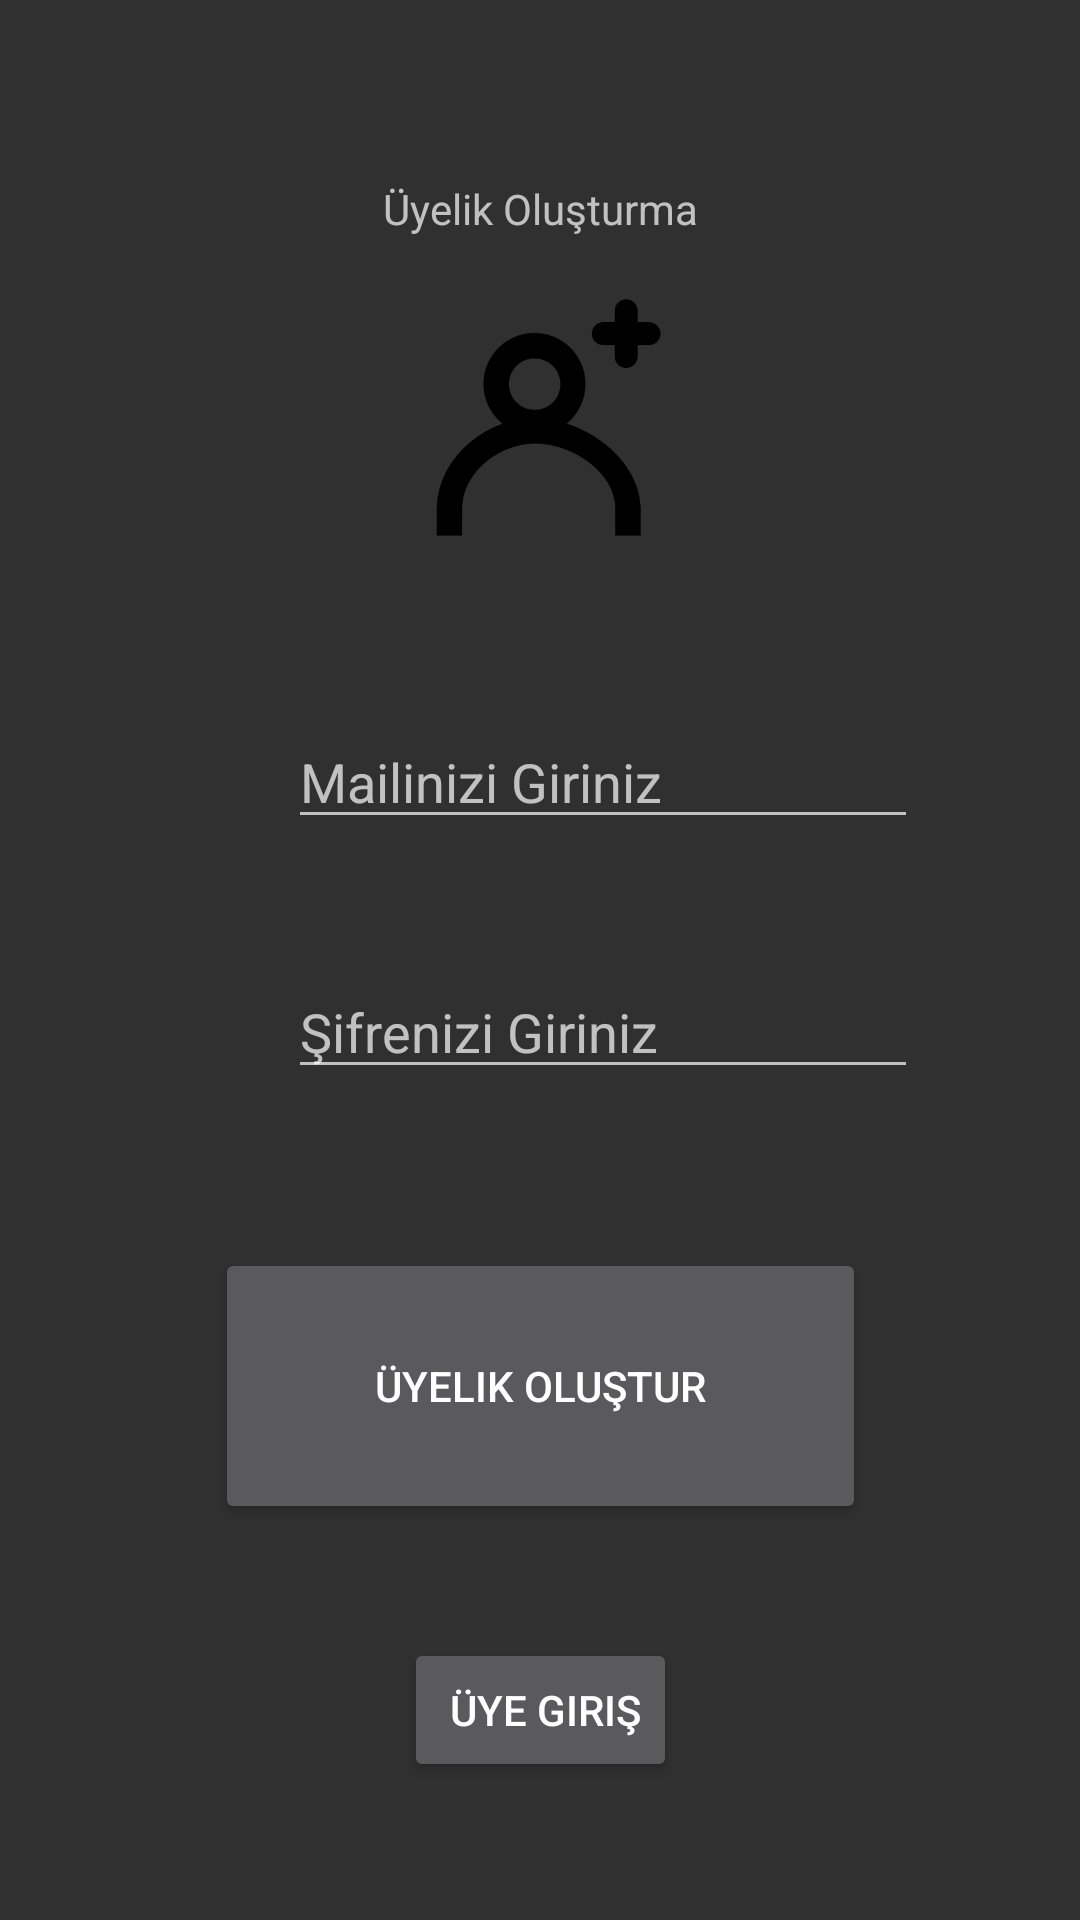

Where to tap for icons on this 1080 x 1920 app screen, as point (x, y):
noun user: point (549, 417)
